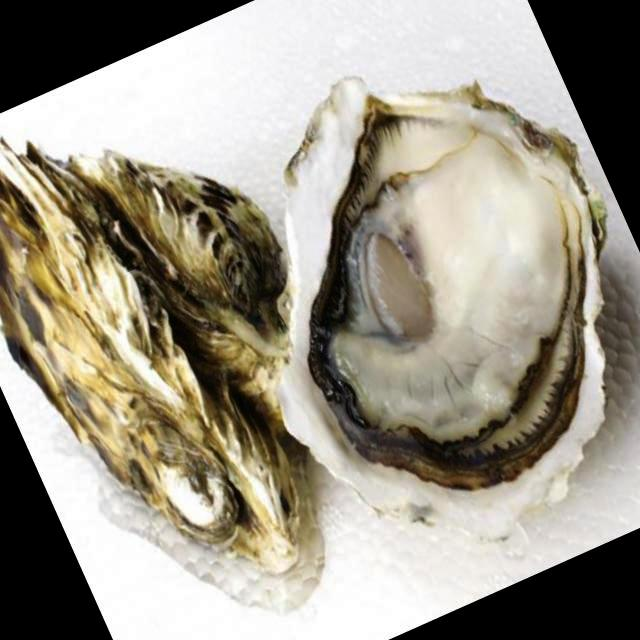Oyster-Closed: (0, 135, 300, 573), (97, 144, 293, 422)
Oyster-Open: (276, 72, 608, 540)
